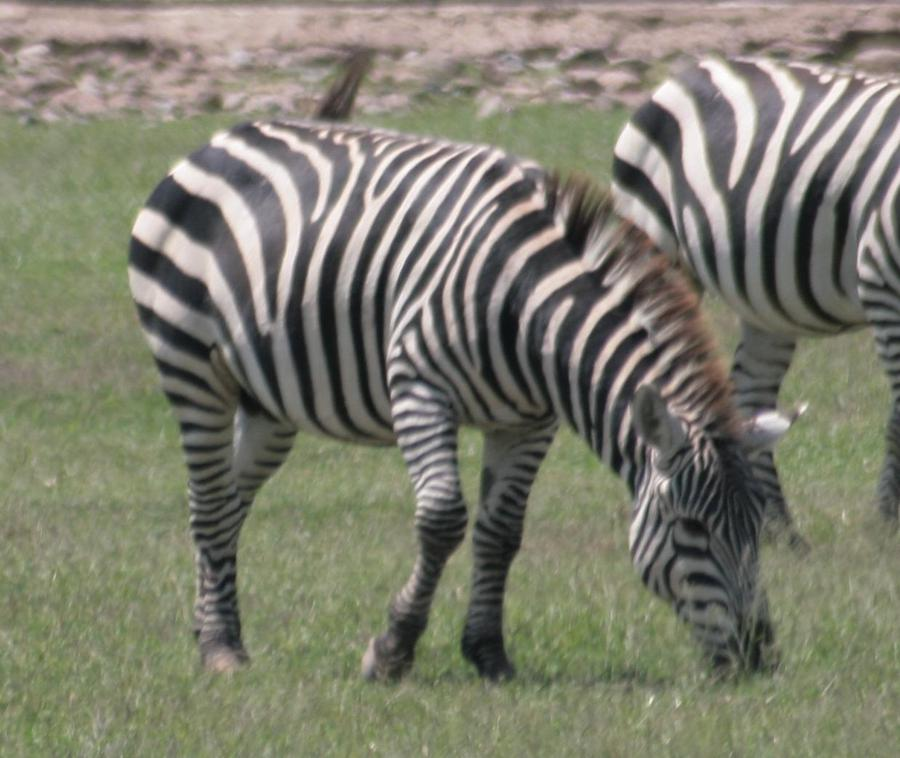zebra_plains: (89, 124, 595, 483)
